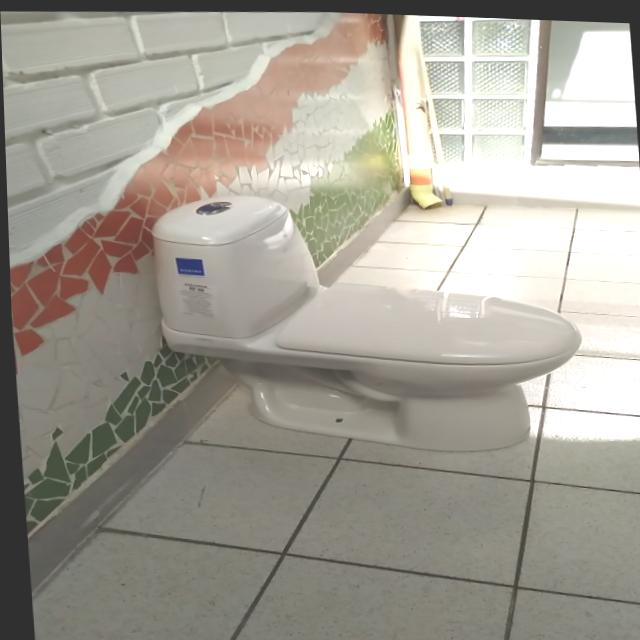toilet: (146, 178, 587, 462)
